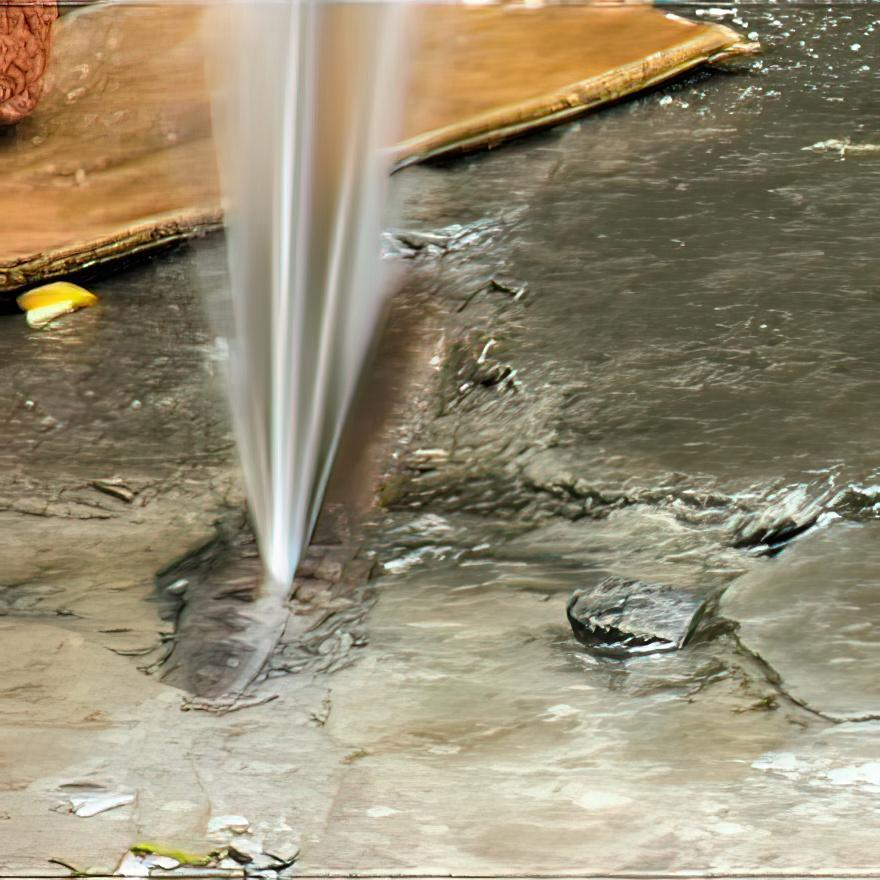pipe burst: (201, 0, 434, 606)
